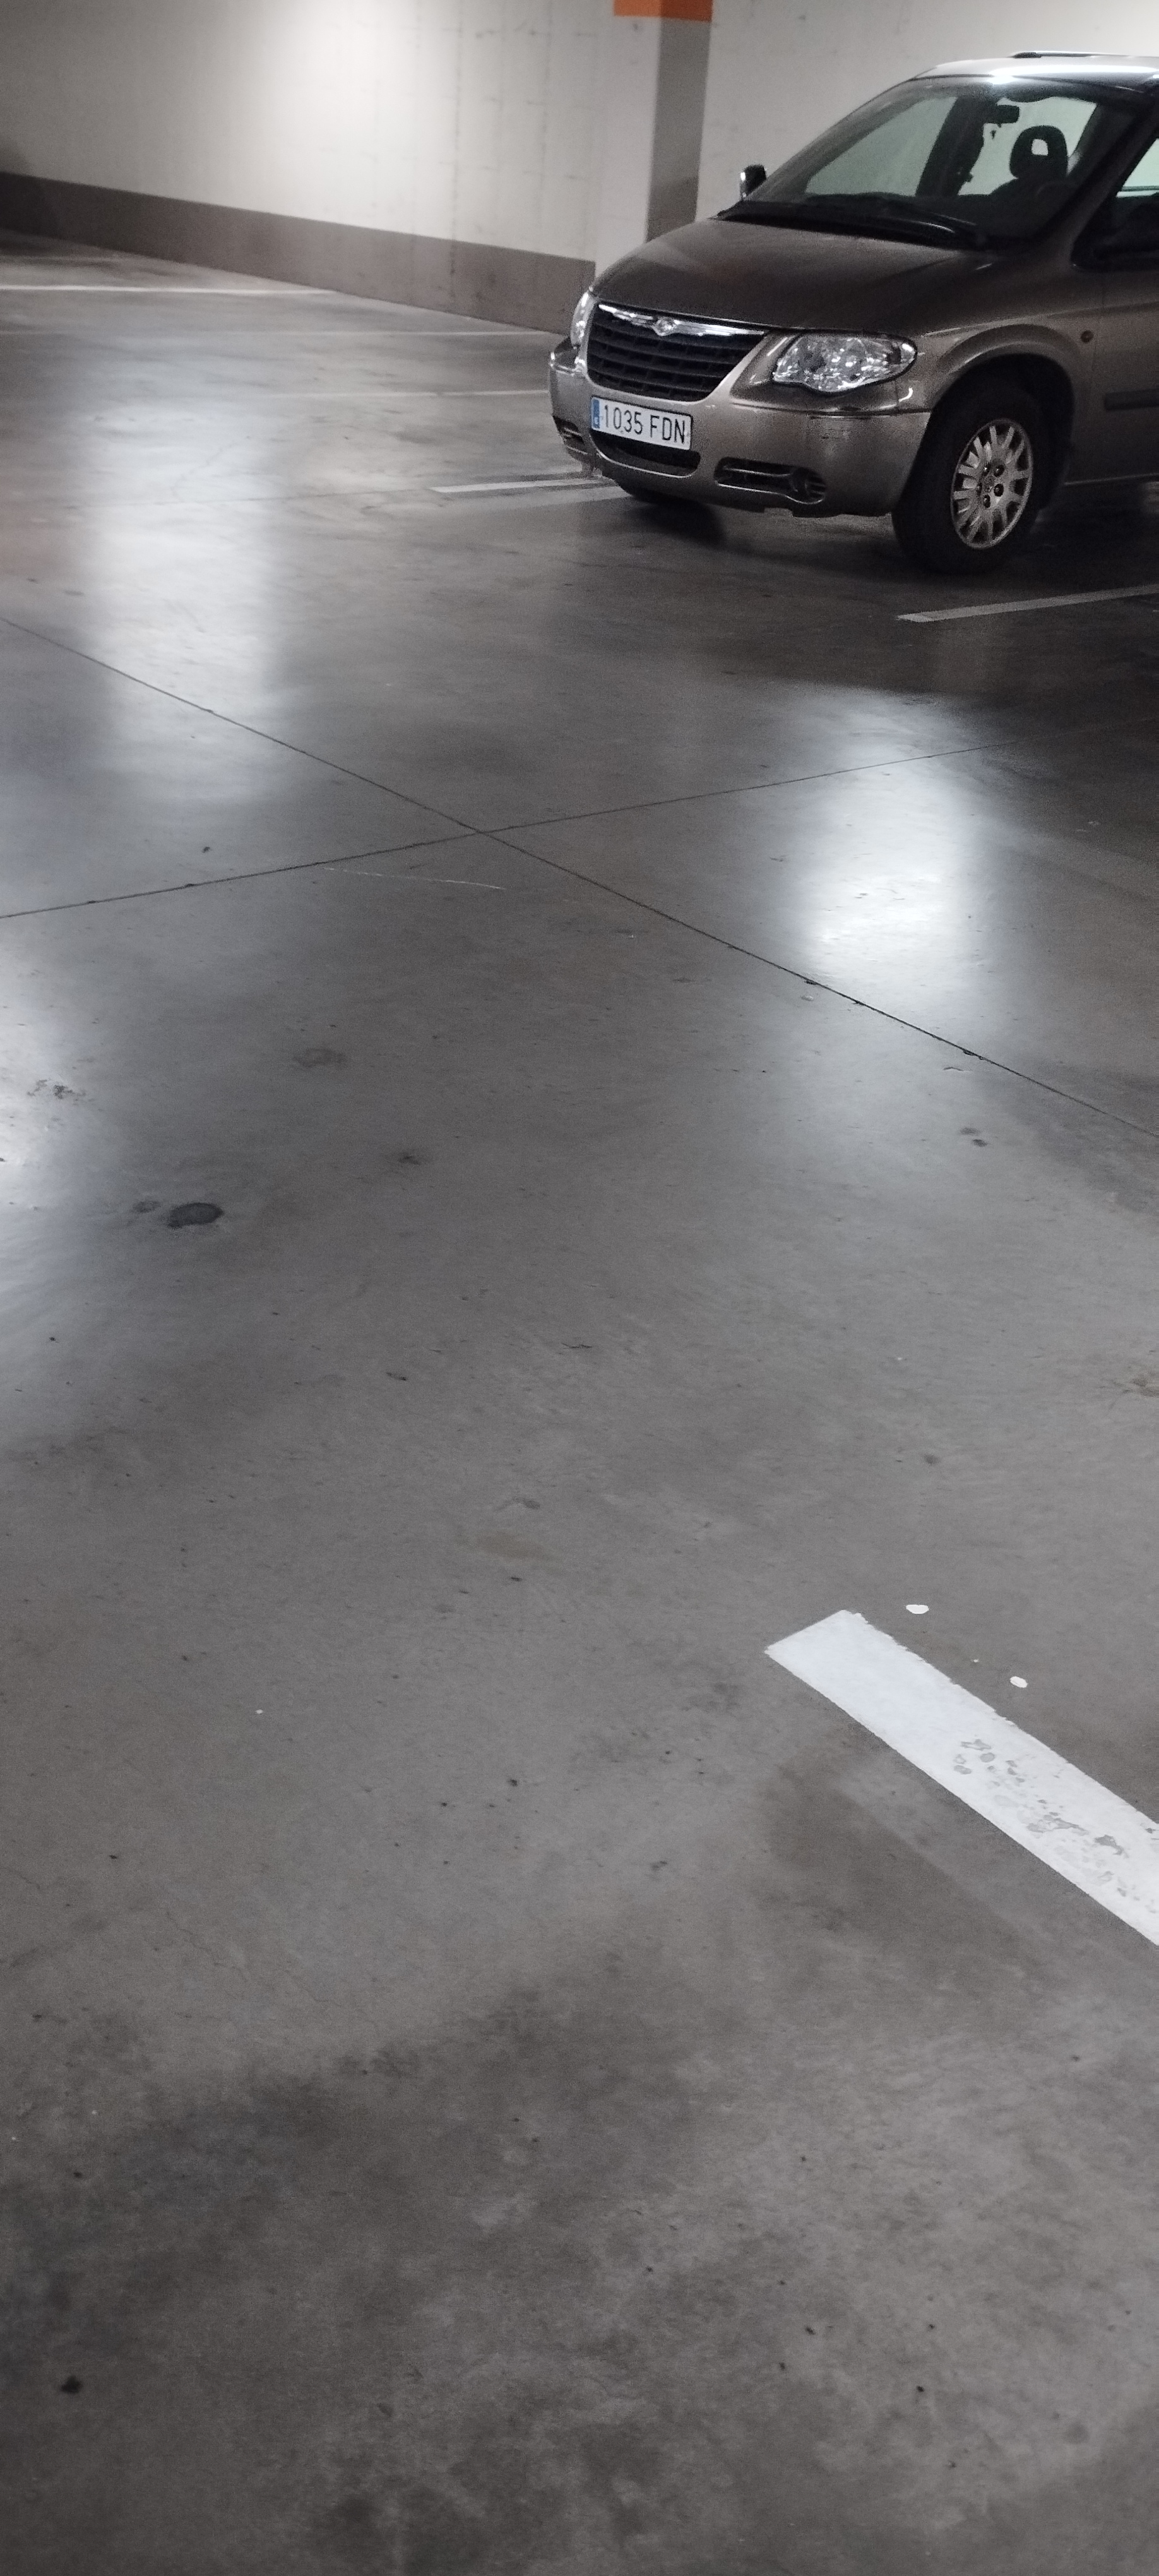Car: (548, 54, 1158, 558)
Plate: (588, 395, 693, 433)
